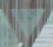Give way: (4, 1, 49, 45)
